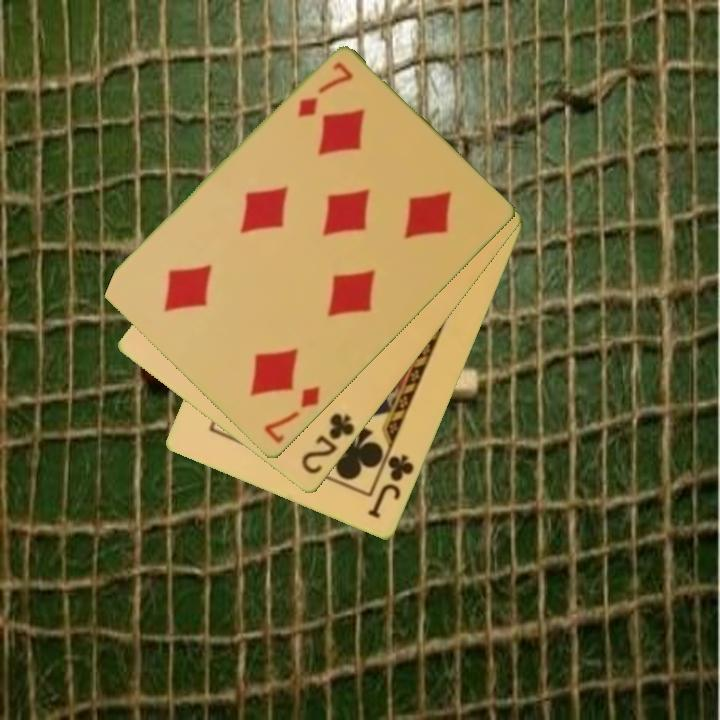2c: (297, 409, 358, 478)
7d: (260, 383, 323, 447), (294, 59, 356, 121)
Jc: (364, 451, 418, 522)
